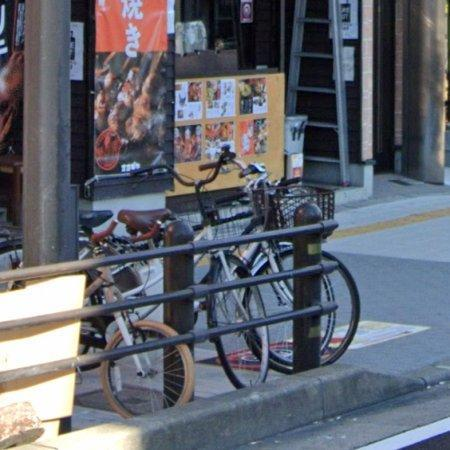bicycles: (322, 252, 361, 365)
